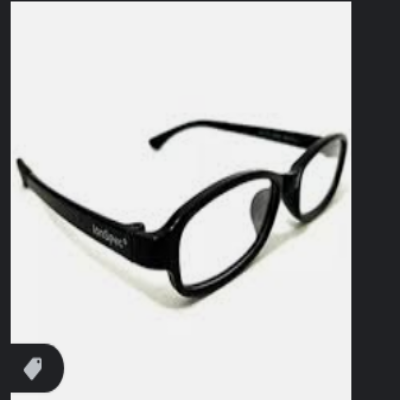glasses: (15, 115, 349, 301)
